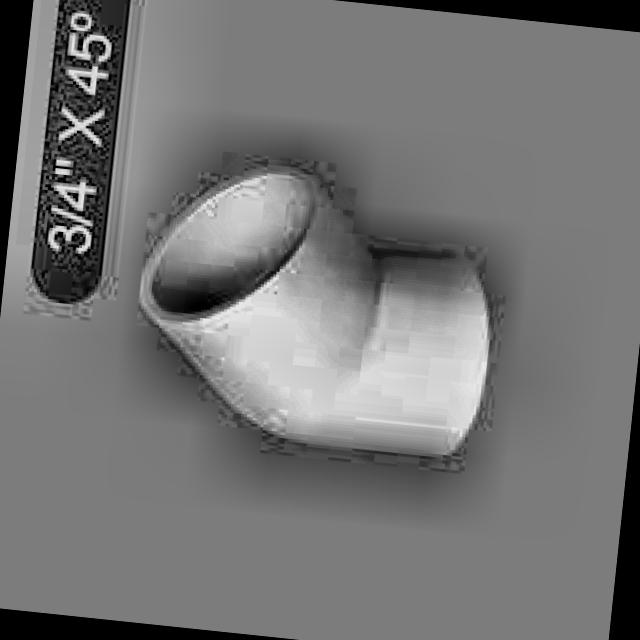ELBOW45: (137, 160, 500, 461)
